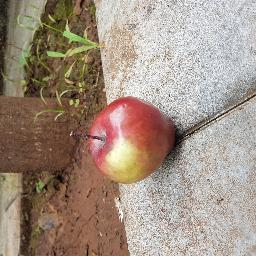Good_apple: (87, 95, 183, 185)
